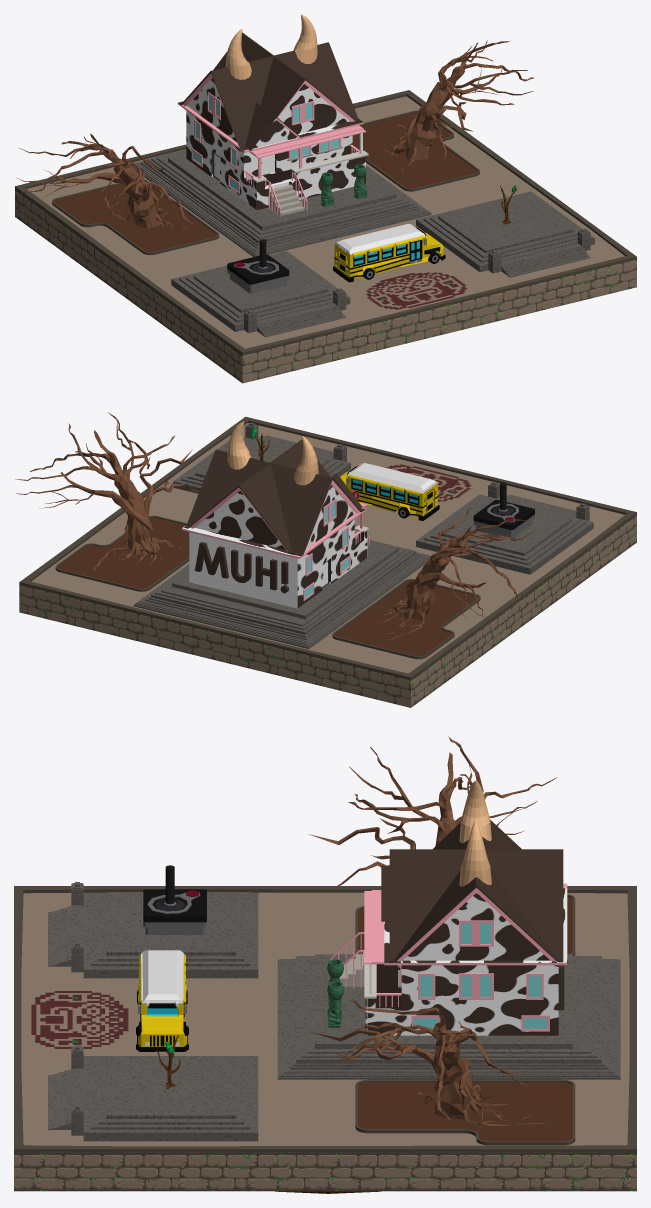
3 views of the same model, one above another, from view 1: azimuth 30°, elevation 25°; view 2: azimuth 150°, elevation 25°; view 3: azimuth 270°, elevation 25° (orthographic). The views are drawn at different scales.
Visible parts, largest first — view 1: Cube.011, Cube.1242, VEHICLES_SCHOOL_BUS, OBJRANDOM_JOYSTICK; view 2: Cube.011, Cube.1242, VEHICLES_SCHOOL_BUS, OBJRANDOM_JOYSTICK; view 3: Cube.011, Cube.1242, VEHICLES_SCHOOL_BUS, OBJRANDOM_JOYSTICK.
Part boxes in pixels (x1=…): Cube.011: x1=15, y1=40, x2=636, y2=383; Cube.1242: x1=177, y1=14, x2=368, y2=216; VEHICLES_SCHOOL_BUS: x1=333, y1=224, x2=445, y2=282; OBJRANDOM_JOYSTICK: x1=227, y1=239, x2=289, y2=293; Cube.011: x1=15, y1=412, x2=636, y2=707; Cube.1242: x1=181, y1=421, x2=369, y2=608; VEHICLES_SCHOOL_BUS: x1=340, y1=463, x2=439, y2=520; OBJRANDOM_JOYSTICK: x1=473, y1=482, x2=534, y2=537; Cube.011: x1=14, y1=736, x2=636, y2=1191; Cube.1242: x1=330, y1=780, x2=567, y2=1035; VEHICLES_SCHOOL_BUS: x1=136, y1=950, x2=188, y2=1051; OBJRANDOM_JOYSTICK: x1=143, y1=865, x2=206, y2=934.
Size of the model in its own units: 5099 by 1985 by 4000.
47 materials, 5 textured.
